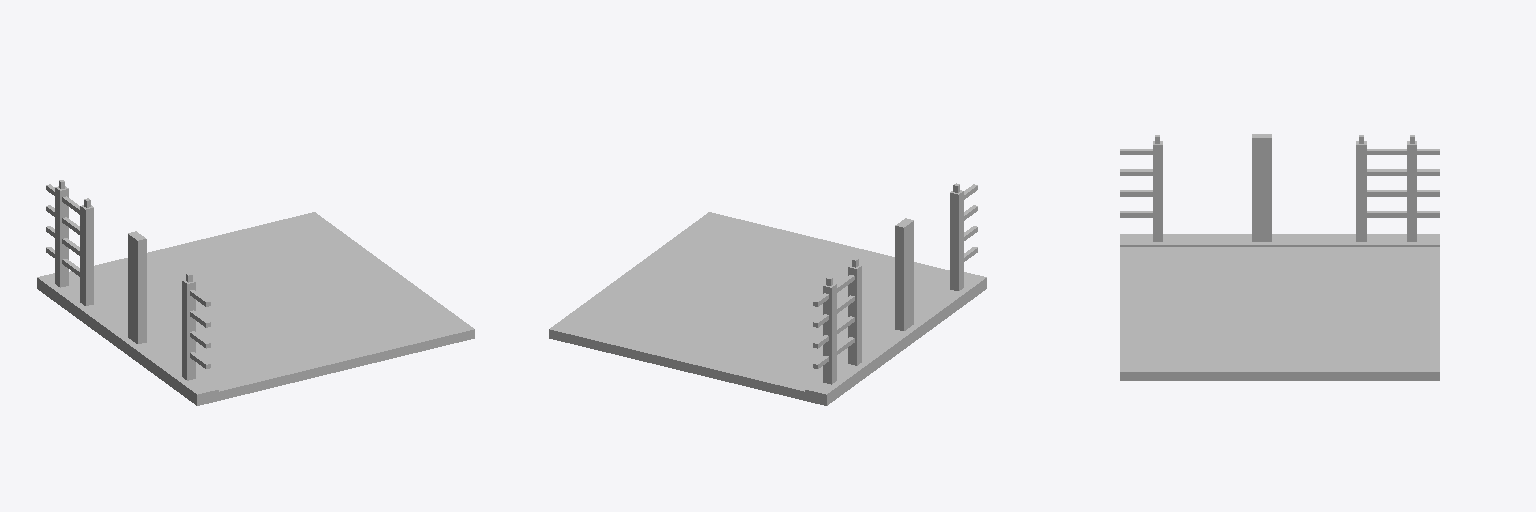
Rendered from 4x4 parc-5.obj.
The picture shows the model from 3 angles: view 1: azimuth 30°, elevation 25°; view 2: azimuth 150°, elevation 25°; view 3: azimuth 270°, elevation 25°; orthographic projection.
Parts seen in each view (by area): view 1: 4x4 parc-5; view 2: 4x4 parc-5; view 3: 4x4 parc-5.
Boxes of the visible parts, <box> form: 4x4 parc-5: <box>37,180,474,405</box>; 4x4 parc-5: <box>549,183,986,405</box>; 4x4 parc-5: <box>1120,134,1439,380</box>.
Bounding box in the file's own units: 126 × 50 × 126.